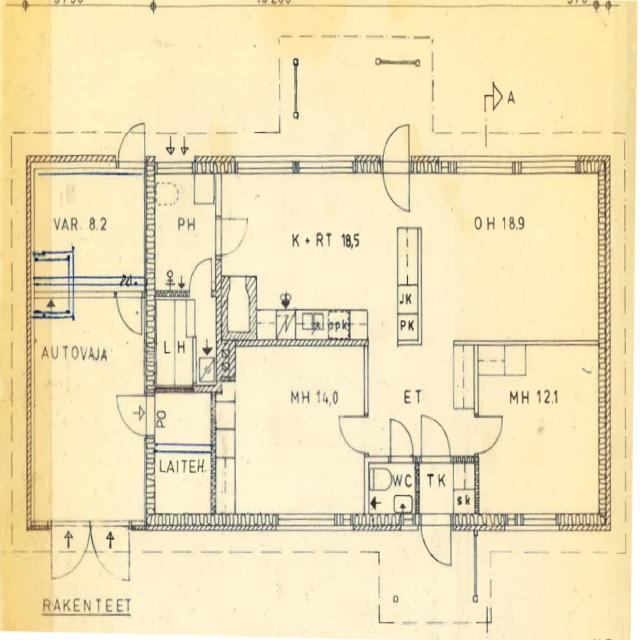door: (51, 520, 90, 584), (90, 520, 129, 584), (422, 514, 451, 570), (116, 396, 156, 436), (383, 120, 409, 174), (383, 156, 409, 209), (421, 416, 450, 463), (118, 120, 144, 168), (474, 416, 506, 453), (216, 218, 247, 254), (338, 416, 368, 452), (116, 291, 142, 332), (390, 425, 413, 463), (189, 260, 212, 297)
